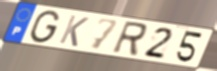2: (140, 27, 175, 61)
5: (175, 30, 204, 63)
7: (90, 17, 119, 52)
G: (27, 9, 62, 45)
K: (57, 14, 91, 49)
R: (109, 20, 150, 58)
